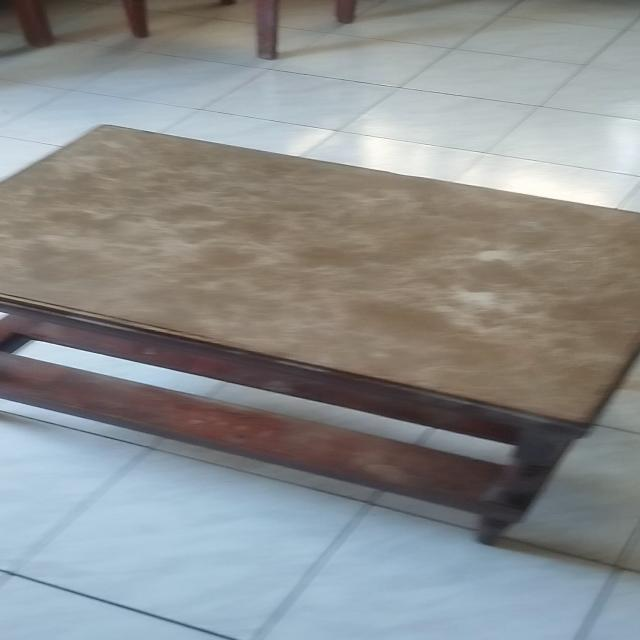table: (0, 120, 640, 546)
